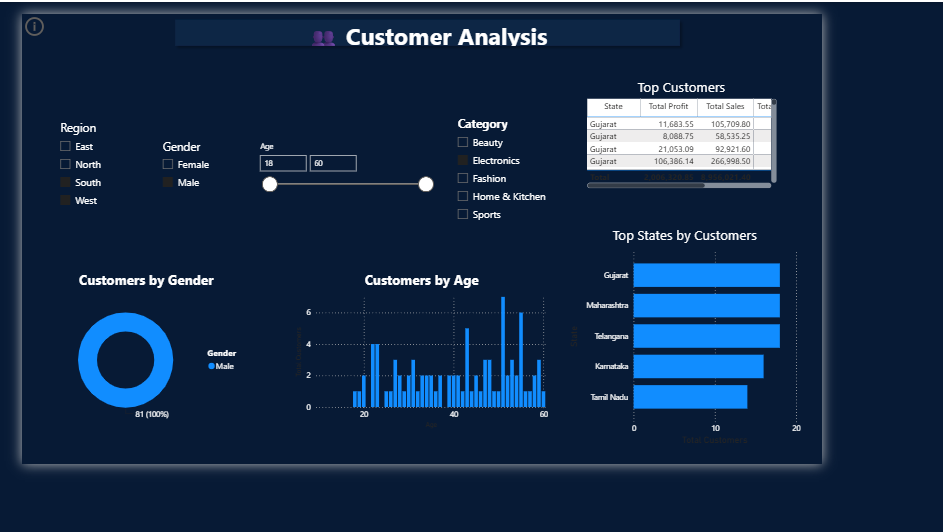

This screenshot's page, from the dashboard's own definition file:
{"tool":"powerbi","page":{"name":"Customer Analysis","canvas":[1280,720],"ordinal":2},"visuals":[{"type":"shape","box":[235.3,0,825.7,60],"z":0},{"type":"slicer","fields":{"Values":["Fact_Sales.Region"]},"box":[47.1,164.7,132.6,164.7],"z":1000},{"type":"slicer","fields":{"Values":["Fact_Sales.Age"]},"box":[367.9,198.9,299.5,107],"z":2000},{"type":"slicer","fields":{"Values":["Fact_Sales.Gender"]},"box":[211.8,194.7,109.1,111.2],"z":3000},{"type":"slicer","fields":{"Values":["Fact_Sales.Category"]},"box":[684.5,158.3,186.1,181.8],"z":4000},{"type":"columnChart","title":"Customers by Age","fields":{"Category":["Fact_Sales.Age"],"Y":["Fact_Sales.Total Customers"]},"box":[432.1,410.7,415,258.8],"z":5000},{"type":"barChart","title":"Top States by Customers","fields":{"Y":["Fact_Sales.Total Customers"],"Category":["Fact_Sales.State"]},"box":[870.6,338,380.8,357.2],"z":6000},{"type":"tableEx","title":"Top Customers","fields":{"Values":["Fact_Sales.State","Fact_Sales.Total Profit","Fact_Sales.Total Sales","Fact_Sales.Total Orders","Fact_Sales.Customer Name"]},"box":[898.4,102.7,314.4,181.8],"z":7000},{"type":"donutChart","title":"Customers by Gender","fields":{"Category":["Fact_Sales.Gender"],"Y":["Fact_Sales.Total Customers"]},"box":[29.9,410.7,338,258.8],"z":8000},{"type":"actionButton","box":[0,0,100,40],"z":9000}]}

Visuals, with their boxes in screenshot pixels (x1, y1, x2, y2), scaled from the page's 1280x720 canvas onto the 943x532 screenshot:
shape: {"x1": 173, "y1": 0, "x2": 782, "y2": 44}
slicer - Fact_Sales.Region: {"x1": 35, "y1": 122, "x2": 132, "y2": 243}
slicer - Fact_Sales.Age: {"x1": 271, "y1": 147, "x2": 492, "y2": 226}
slicer - Fact_Sales.Gender: {"x1": 156, "y1": 144, "x2": 236, "y2": 226}
slicer - Fact_Sales.Category: {"x1": 504, "y1": 117, "x2": 641, "y2": 251}
"Customers by Age" columnChart: {"x1": 318, "y1": 303, "x2": 624, "y2": 495}
"Top States by Customers" barChart: {"x1": 641, "y1": 250, "x2": 922, "y2": 514}
"Top Customers" tableEx: {"x1": 662, "y1": 76, "x2": 893, "y2": 210}
"Customers by Gender" donutChart: {"x1": 22, "y1": 303, "x2": 271, "y2": 495}
actionButton: {"x1": 0, "y1": 0, "x2": 74, "y2": 30}
